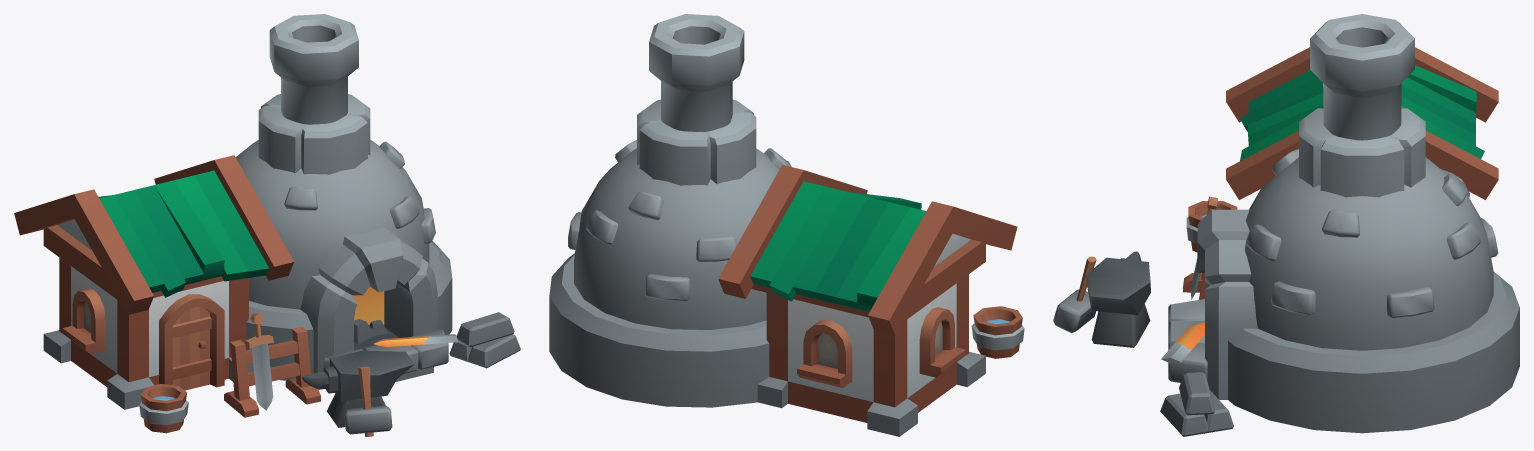
The model's file is blacksmith_green.glb.
The picture shows the model from 3 angles, left to right: view 1: azimuth 30°, elevation 25°; view 2: azimuth 150°, elevation 25°; view 3: azimuth 270°, elevation 25°; orthographic projection. The views are drawn at different scales.
Visible parts, largest first — view 1: blacksmith_green; view 2: blacksmith_green; view 3: blacksmith_green.
Boxes of the visible parts, x1,y1,x2,y2 form: blacksmith_green: (14,14,520,436); blacksmith_green: (549,14,1024,436); blacksmith_green: (1053,14,1519,436).
Size of the model in its own units: 0.6438 by 0.4926 by 0.6226.
1 material, 1 textured.
